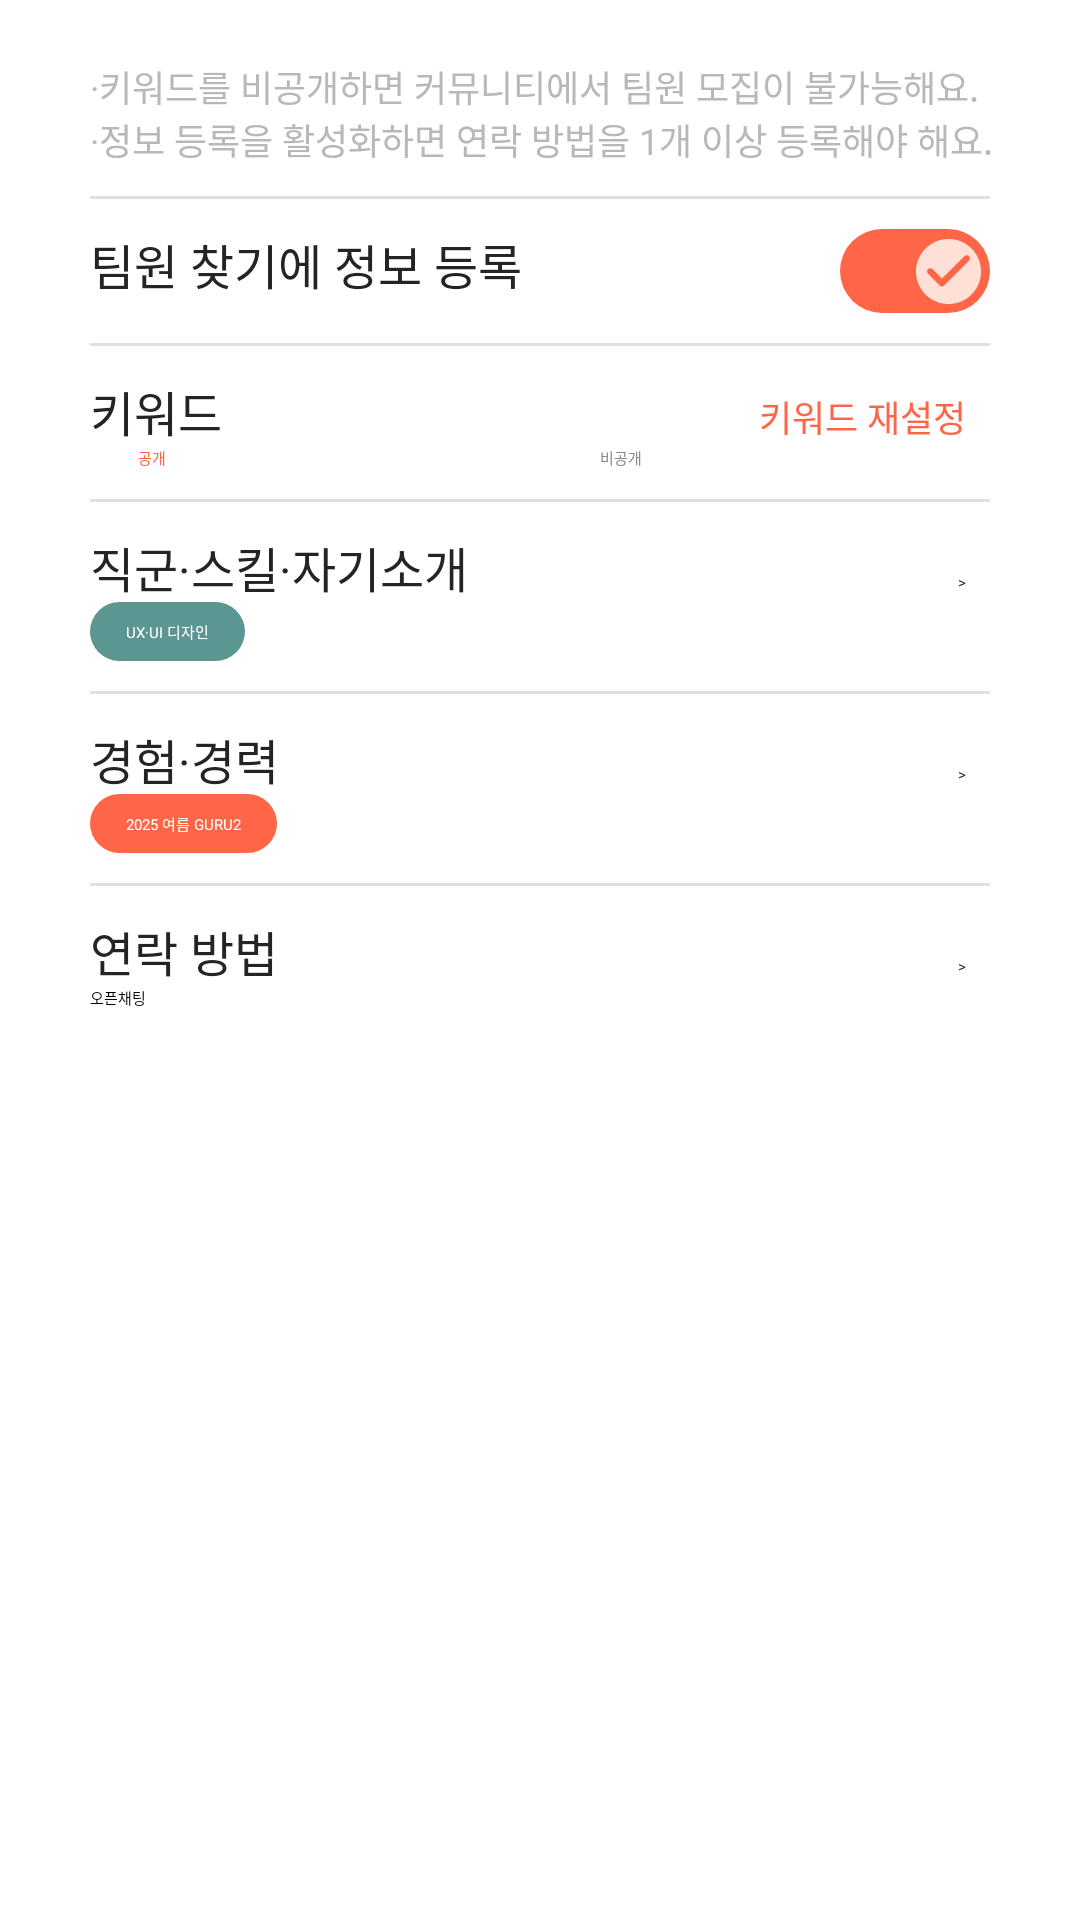

Locate icon controls on the screen. Image size 1080 x 1920, boxes as bbox=(x1, y1, x2, y2).
switch on: bbox=(840, 229, 990, 313)
